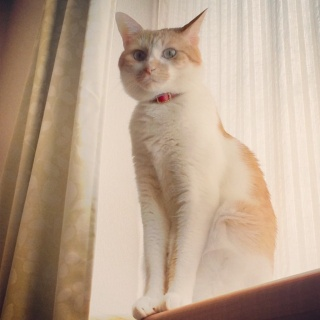Cat: (112, 6, 278, 319)
